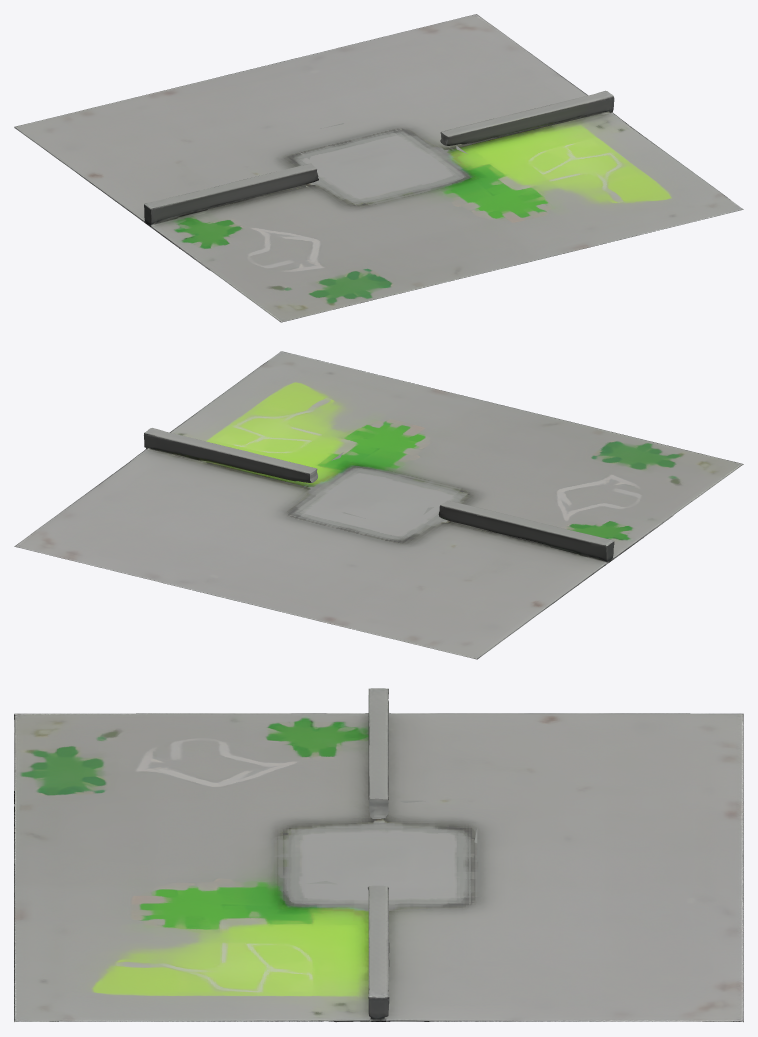
Rendered from nyc-church.glb.
The picture shows the model from 3 angles, top to bottom: view 1: azimuth 30°, elevation 25°; view 2: azimuth 150°, elevation 25°; view 3: azimuth 270°, elevation 25°; orthographic projection. The views are drawn at different scales.
Parts seen in each view (by area): view 1: geometry_0; view 2: geometry_0; view 3: geometry_0.
Boxes of the visible parts, <box> form: geometry_0: <box>14,14,743,322</box>; geometry_0: <box>14,351,743,659</box>; geometry_0: <box>14,688,743,1022</box>.
Size of the model in its own units: 1 by 0.042 by 1.
Materials: 1 (1 with a texture image).
